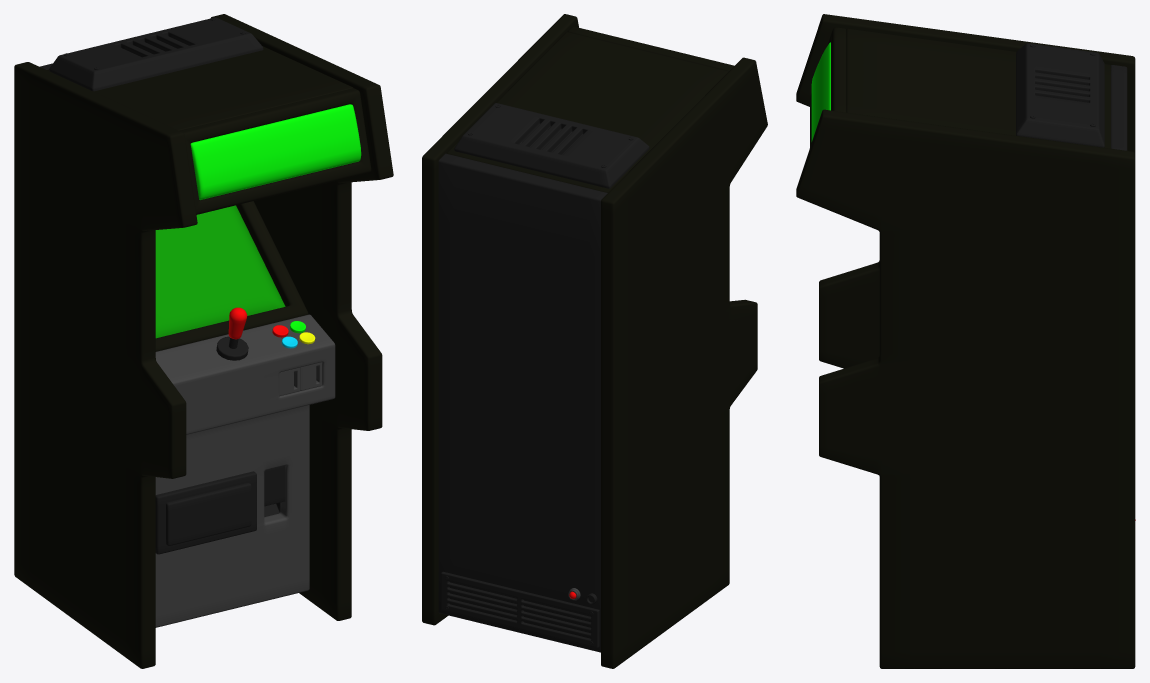
The model's file is Arcade.fbx.
The picture shows the model from 3 angles, left to right: view 1: azimuth 30°, elevation 25°; view 2: azimuth 150°, elevation 25°; view 3: azimuth 270°, elevation 25°; orthographic projection. The views are drawn at different scales.
Visible parts, largest first — view 1: left_side, front_panel, right_side, screen, top_box, screen_2, vent, light_box, screen_setting, front_plate, panel, change_flap (+1 smaller); view 2: back_side, left_side, top_box, right_side, vent, grate, light_box; view 3: right_side, top_box, left_side, vent, light_box, back_side, screen_2.
Boxes of the visible parts, x1,y1,x2,y2 form: left_side: (14,62,197,668); front_panel: (155,314,335,627); right_side: (211,14,393,620); screen: (155,205,285,338); top_box: (47,46,353,130); screen_2: (190,104,361,199); vent: (49,17,263,91); light_box: (179,88,371,214); screen_setting: (155,201,308,351); front_plate: (166,483,251,545); panel: (155,471,256,554); change_flap: (264,465,285,506); back_side: (438,153,607,652); left_side: (601,57,767,668); top_box: (446,32,728,192); right_side: (422,14,578,625); vent: (454,103,649,188); grate: (441,571,599,647); light_box: (567,26,734,71); right_side: (796,109,1135,668); top_box: (846,28,1110,148); left_side: (796,14,1135,368); vent: (1016,43,1104,147); light_box: (810,27,846,146); back_side: (1111,65,1127,150); screen_2: (811,42,830,141).
Bounding box in the file's own units: 3.93 × 9.87 × 5.48.
